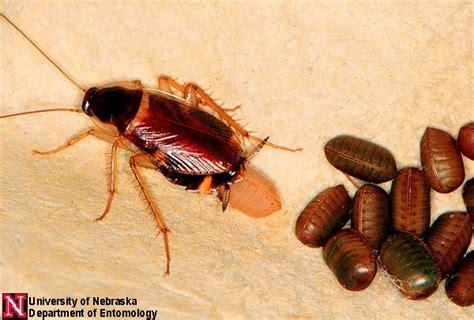cockroach: (78, 70, 252, 212)
